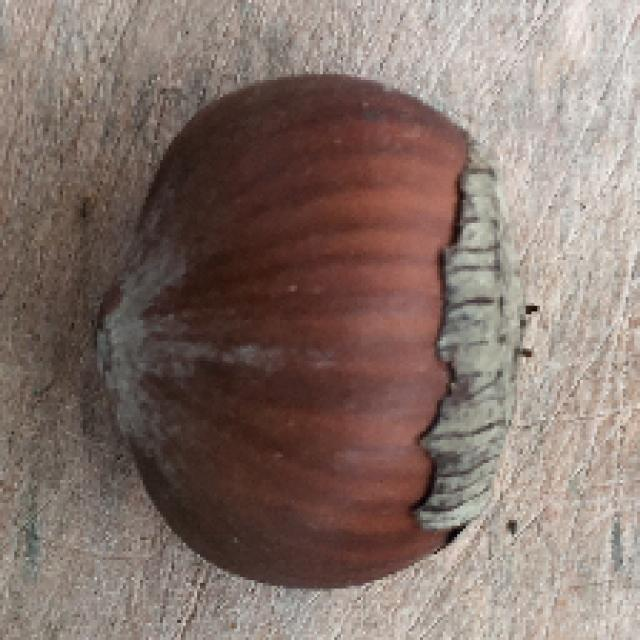damagedHazelnut: (82, 66, 541, 603)
